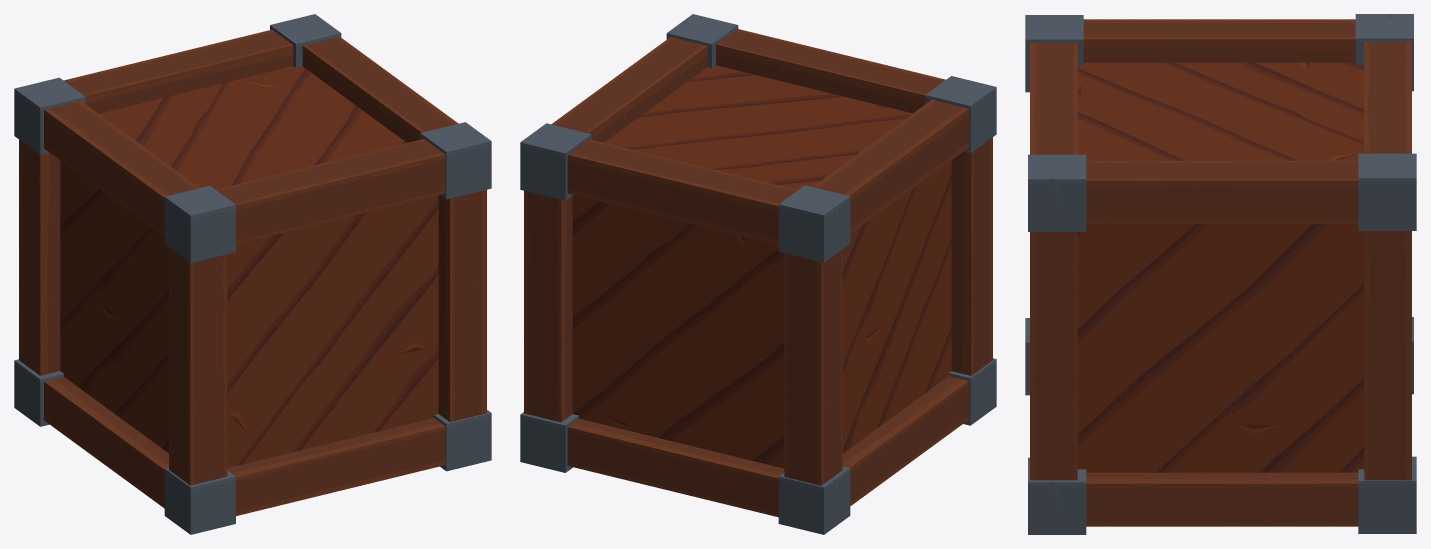
The model's file is Crate1.fbx.
3 renders of one model, left to right at view 1: azimuth 30°, elevation 25°; view 2: azimuth 150°, elevation 25°; view 3: azimuth 270°, elevation 25°, orthographic. The views are drawn at different scales.
Visible parts, largest first — view 1: Crate1; view 2: Crate1; view 3: Crate1.
Part boxes in pixels (x1,y1,x2,y2): Crate1: [14, 14, 491, 534]; Crate1: [520, 14, 996, 534]; Crate1: [1025, 14, 1416, 534].
Size of the model in its own units: 103 by 103 by 103.
